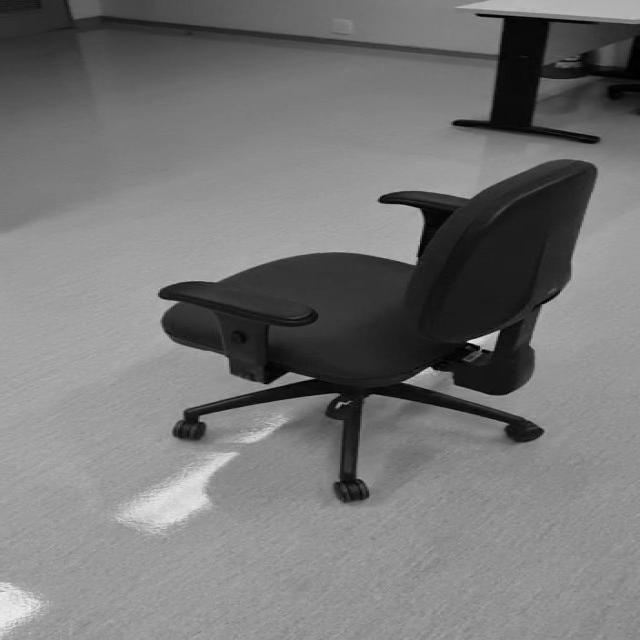cadeira-azul: (159, 158, 600, 503)
